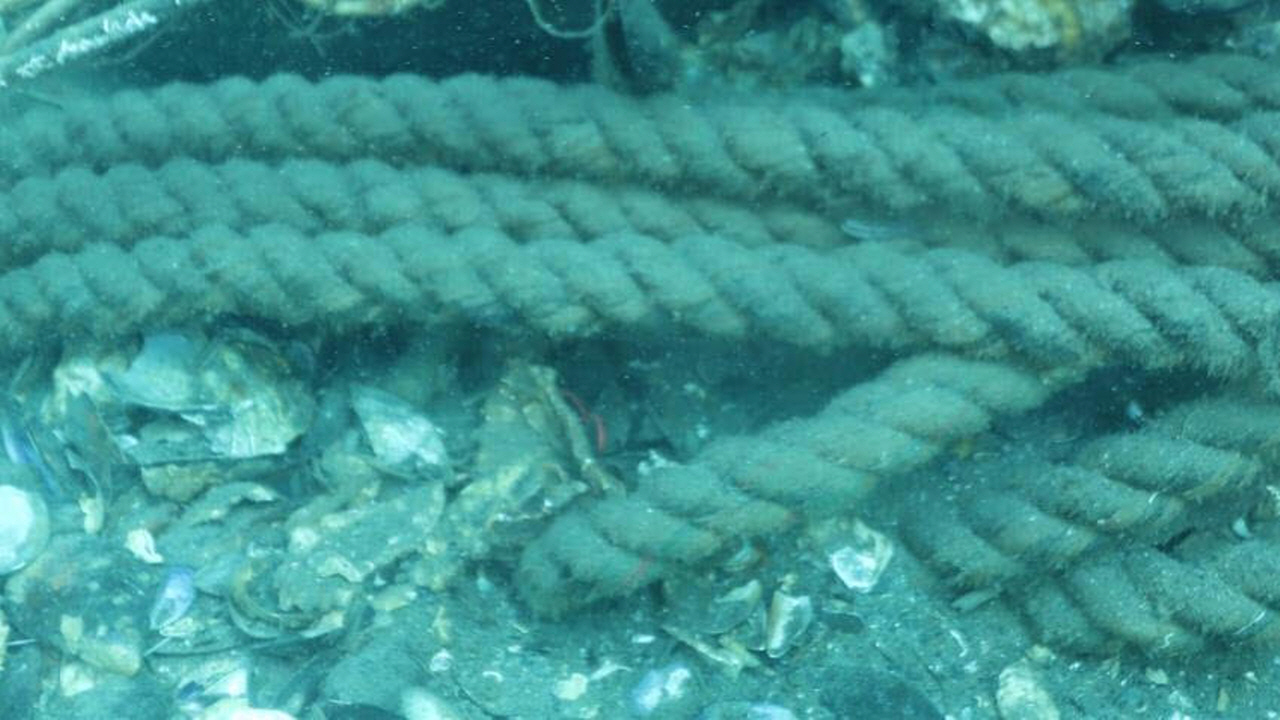bundle of ropes: (0, 40, 1275, 658)
